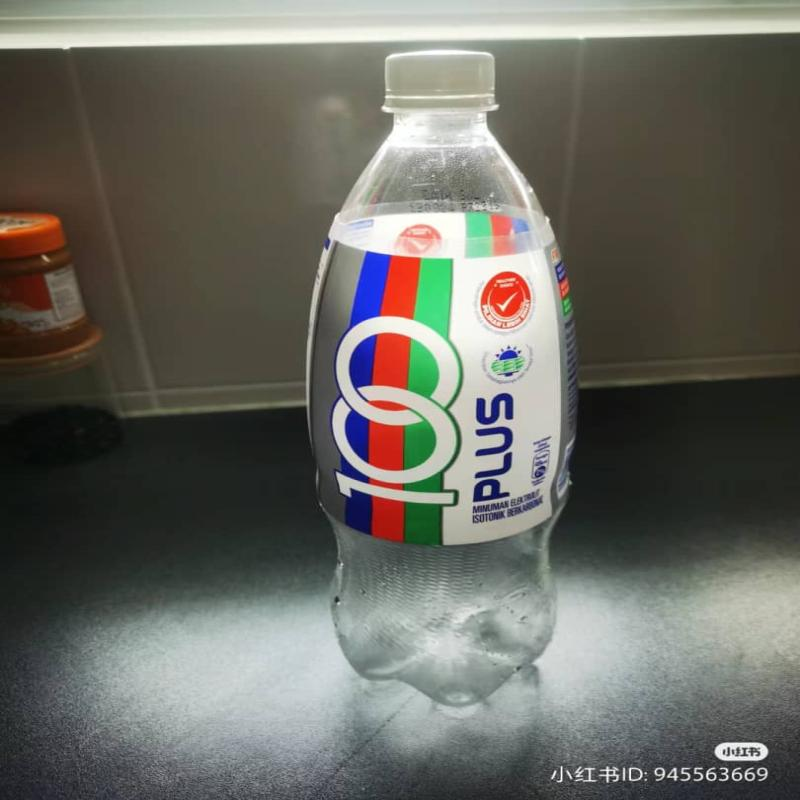botella: (305, 45, 579, 716), (303, 45, 310, 49)
